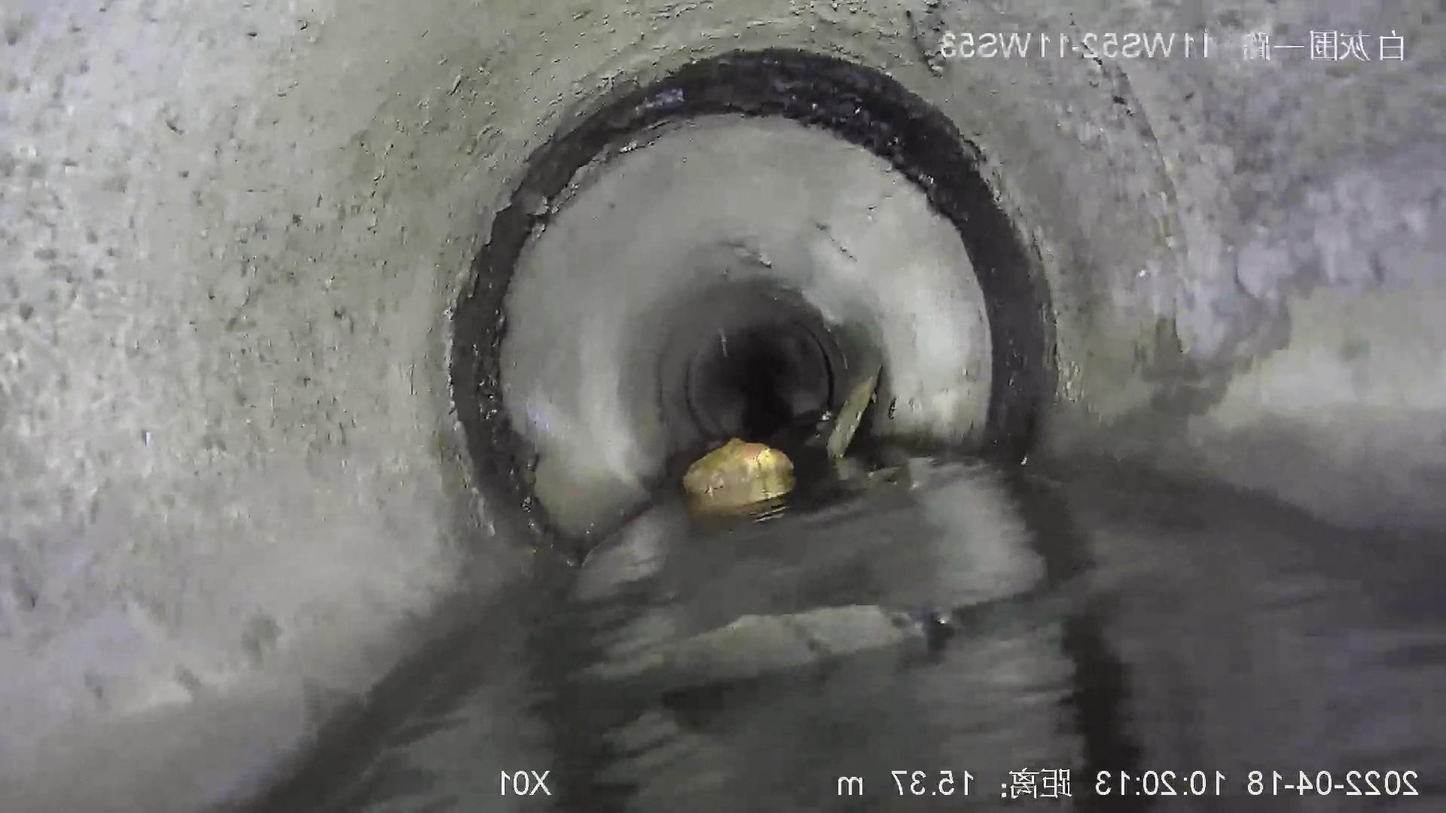ZAW: (684, 439, 794, 495), (827, 367, 879, 459)
